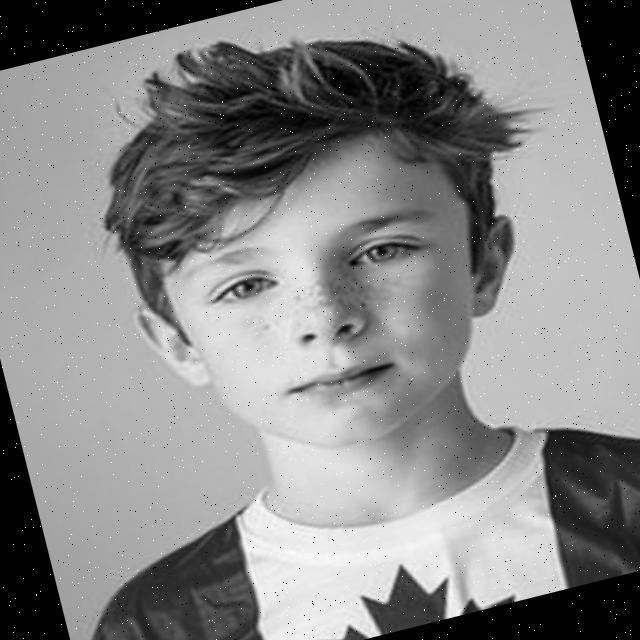Neutral: (143, 124, 506, 478)
